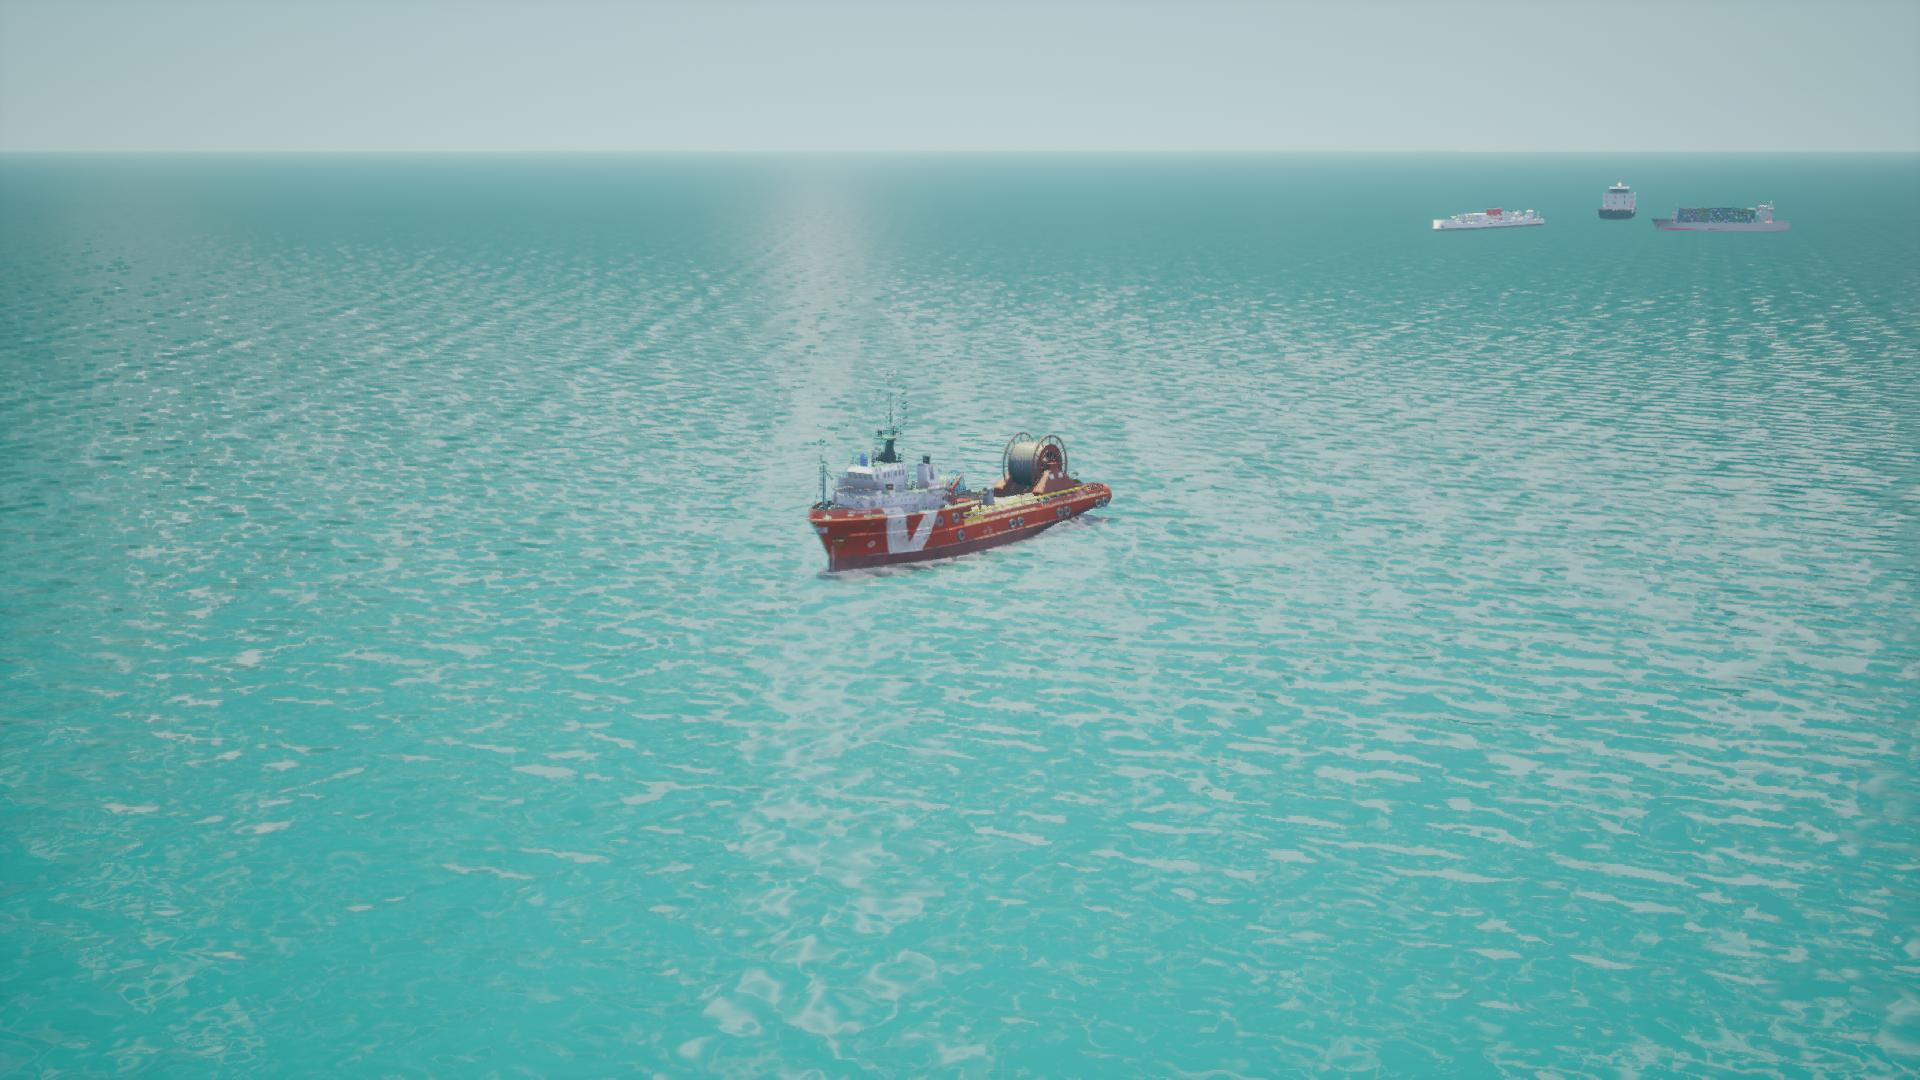Tug Boat: (798, 433, 1110, 580)
